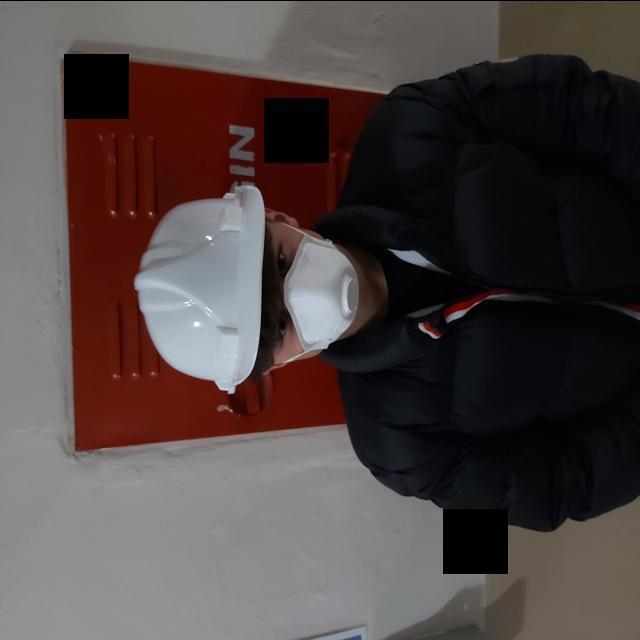white helmet: (110, 170, 295, 405)
